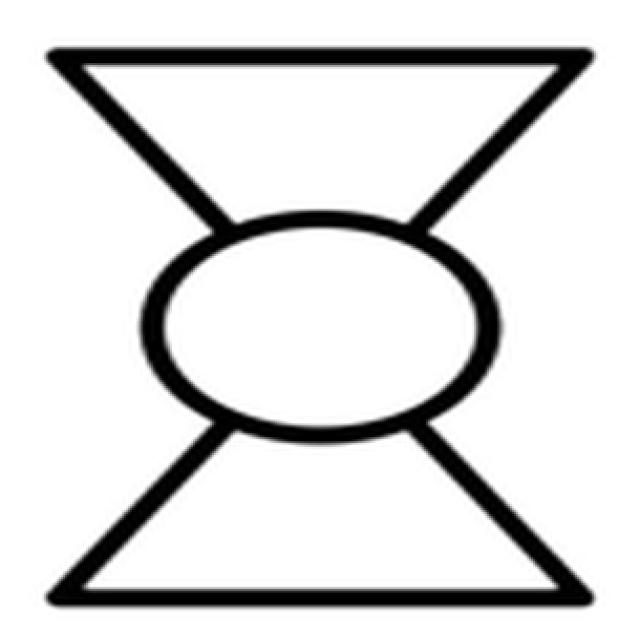ball valve: (49, 48, 595, 595)
